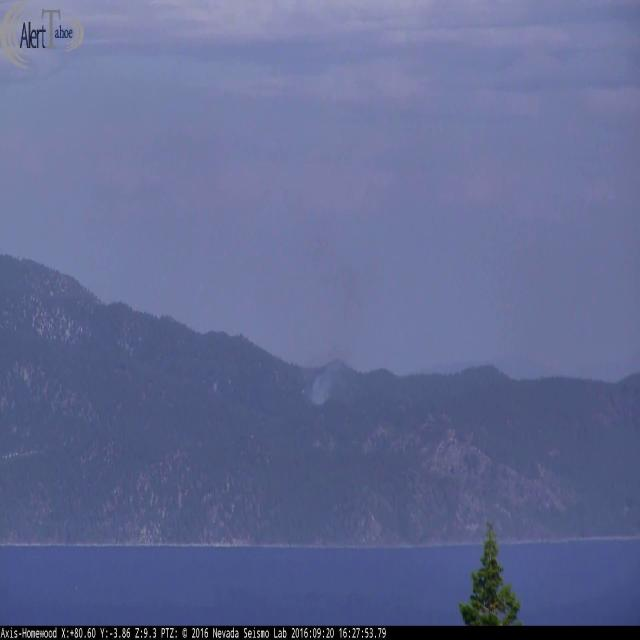smoke: (276, 183, 371, 413)
